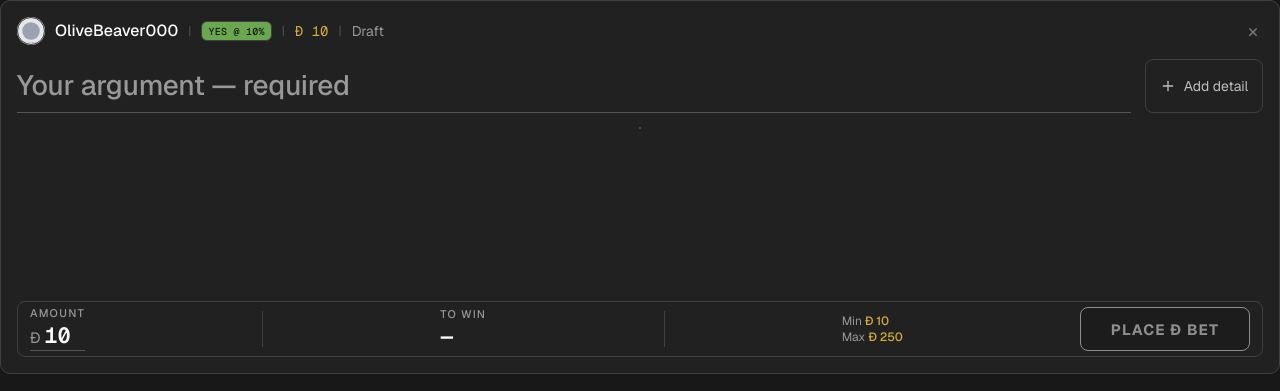
Test: MIRROR-1 RF-7 — the stake bar (G4, G5) › mirror::over-cap-notice-replaces-min-max-and-submit-stays-disabled
Type "The base rate argument." into the text box named "Argument title".
click(574, 86); type("The base rate argument.")  # box [17,59,1131,113]
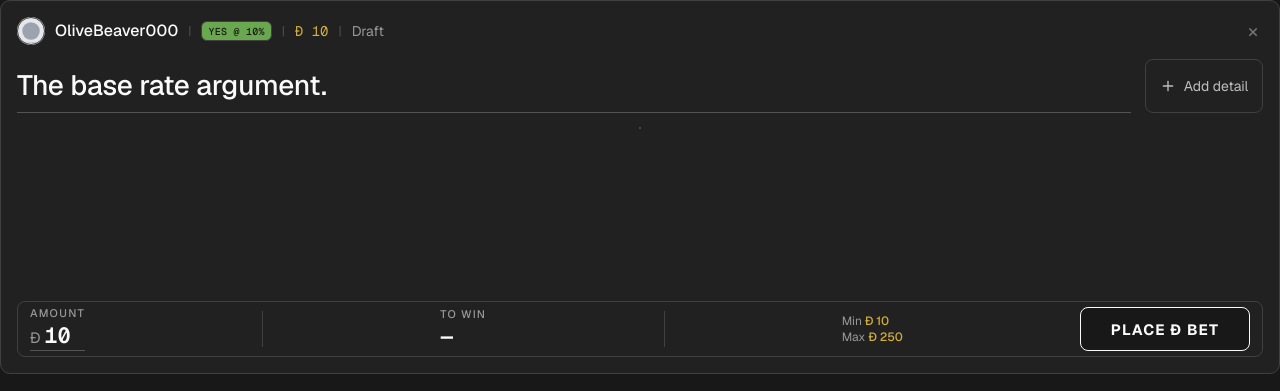
Replace the text in the field named "Stake amount" with "300" at (58, 335), box [44,321,71,349]
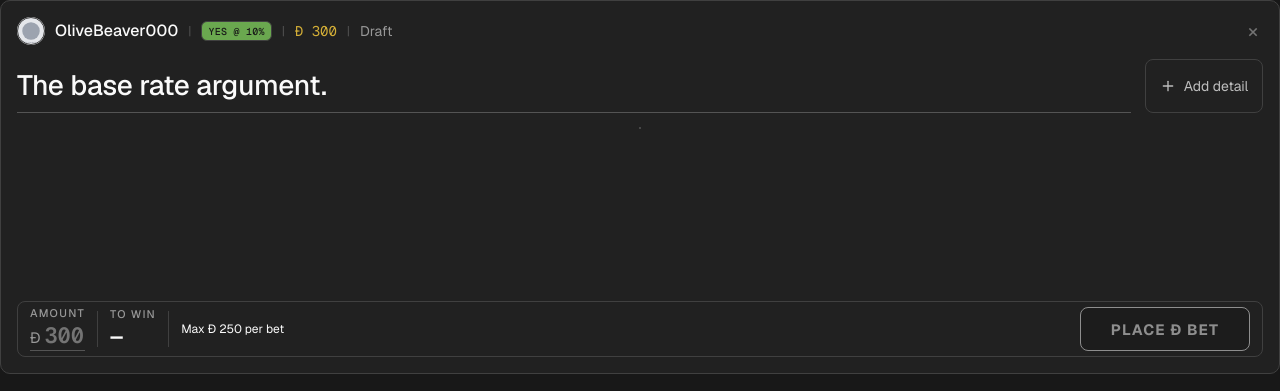
Expected: the element showing "Max Đ 250 per bet" is shown, [181,321,284,337]
Expected: the button "PLACE Đ BET" is disabled, [1080,307,1250,351]
